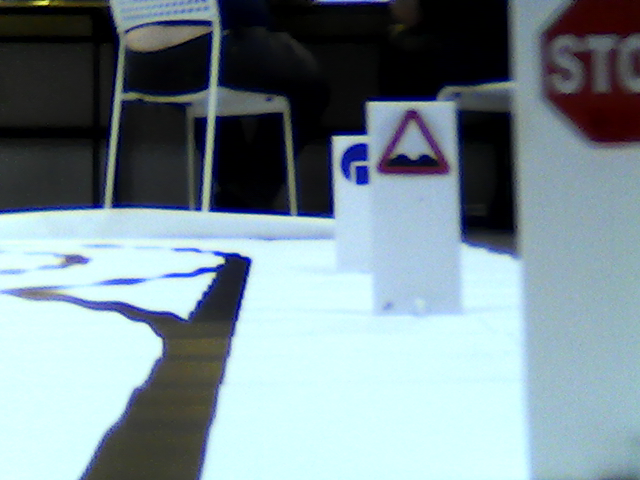Nerov: (376, 109, 453, 173)
Right: (340, 144, 370, 184)
